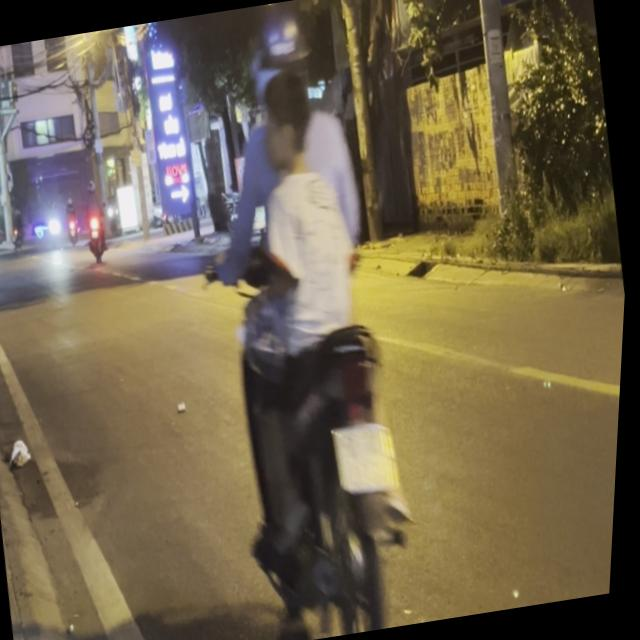helmet: (247, 0, 319, 97)
licenseplate: (159, 0, 458, 640)
motorcyclist: (252, 62, 329, 175)
nohelmet: (335, 418, 408, 494)
